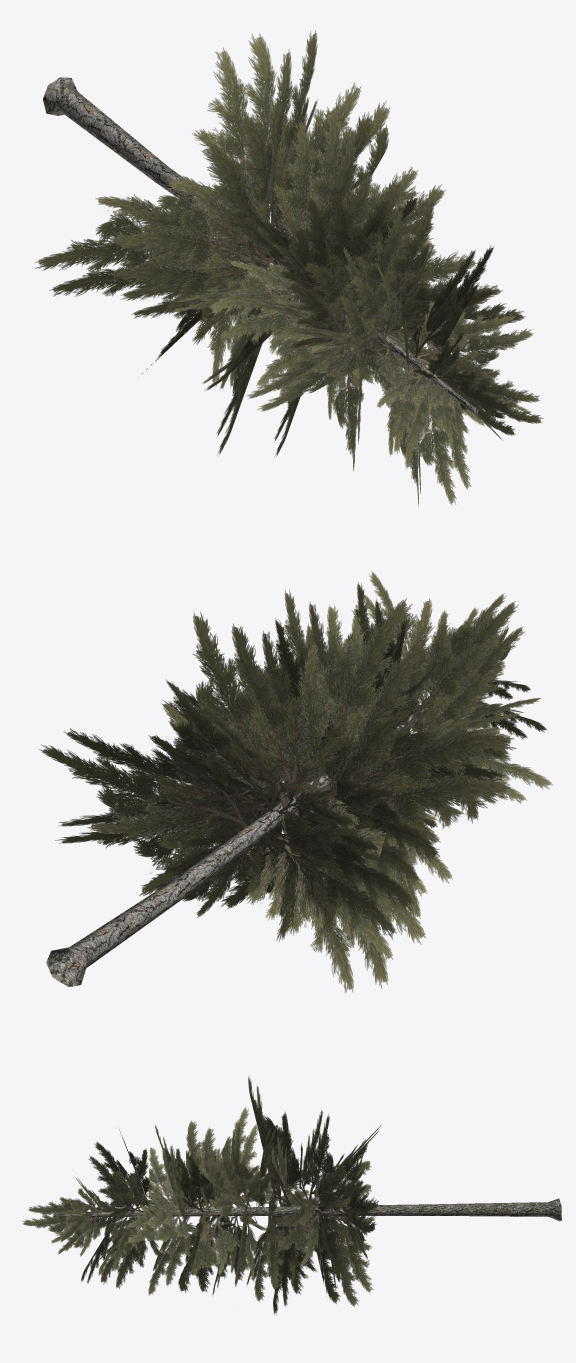
Rendered from test_tree_4.gltf.
3 renders of one model, top to bottom at view 1: azimuth 30°, elevation 25°; view 2: azimuth 150°, elevation 25°; view 3: azimuth 270°, elevation 25°, orthographic. The views are drawn at different scales.
Visible parts, largest first — view 1: Pine_s_1__Pine_s_1_Material_0; view 2: Pine_s_1__Pine_s_1_Material_0; view 3: Pine_s_1__Pine_s_1_Material_0.
Boxes of the visible parts, x1,y1,x2,y2 form: Pine_s_1__Pine_s_1_Material_0: (34,30,543,506); Pine_s_1__Pine_s_1_Material_0: (39,571,552,992); Pine_s_1__Pine_s_1_Material_0: (22,1077,561,1314).
Size of the model in its own units: 4.16 by 3.75 by 7.4.
Materials: 1 (1 with a texture image).
